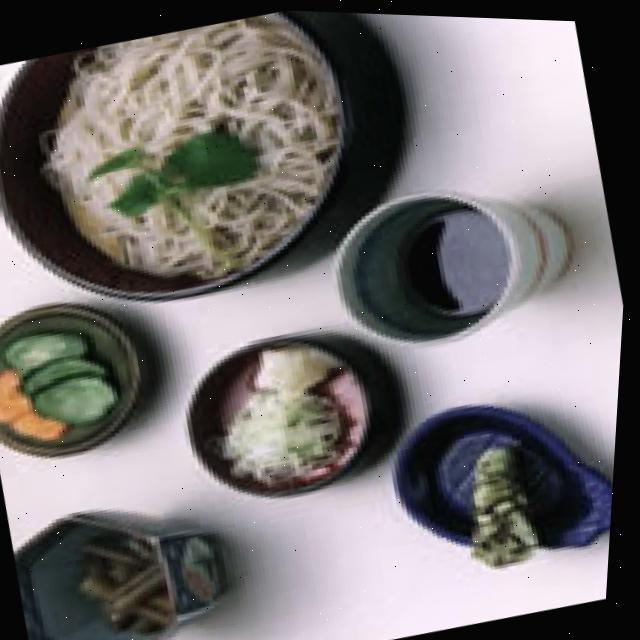面条主食: (0, 0, 447, 356)
